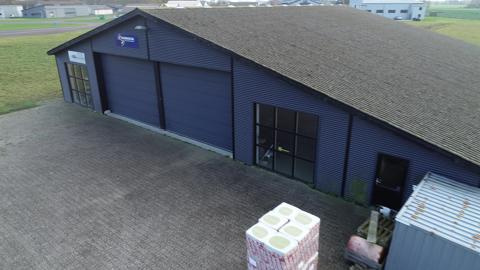RockwoolPallet: (245, 201, 322, 270)
